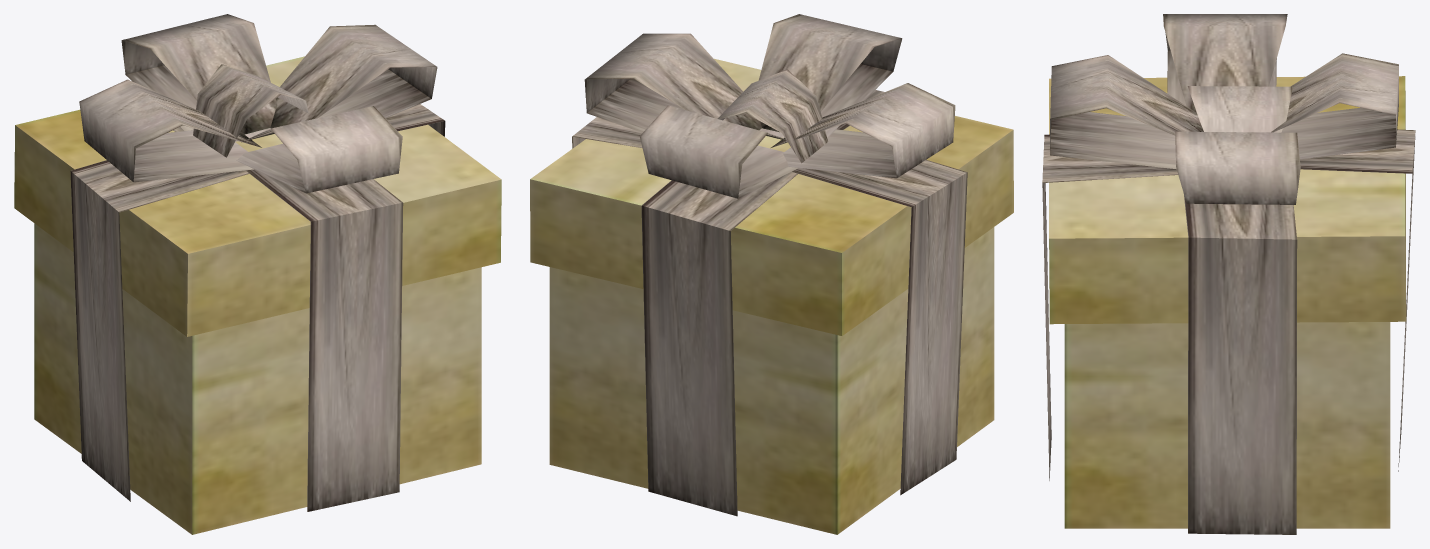
Rendered from pir_m_prp_hol_decoGift01_winter08.fbx.
3 renders of one model, left to right at view 1: azimuth 30°, elevation 25°; view 2: azimuth 150°, elevation 25°; view 3: azimuth 270°, elevation 25°, orthographic. The views are drawn at different scales.
Parts seen in each view (by area): view 1: box_bottom, box_top, ribbon56, ribbon54, ribbon52, ribbon23, ribbon; view 2: box_bottom, box_top, ribbon23, ribbon54, ribbon52, ribbon56, ribbon; view 3: box_bottom, ribbon52, box_top, ribbon56, ribbon23, ribbon54, ribbon.
Boxes of the visible parts, x1,y1,x2,y2 form: box_bottom: (34, 223, 481, 534); box_top: (14, 56, 501, 336); ribbon56: (236, 106, 403, 511); ribbon54: (70, 79, 261, 501); ribbon52: (270, 24, 445, 136); ribbon23: (121, 14, 277, 141); ribbon: (193, 64, 308, 157); box_bottom: (549, 227, 994, 534); box_top: (530, 58, 1013, 335); ribbon23: (639, 105, 797, 516); ribbon54: (771, 83, 967, 495); ribbon52: (572, 33, 761, 148); ribbon56: (758, 14, 902, 137); ribbon: (717, 69, 827, 163); box_bottom: (1064, 322, 1390, 528); ribbon52: (1175, 131, 1300, 534); box_top: (1049, 76, 1406, 324); ribbon56: (1042, 55, 1203, 480); ribbon23: (1271, 53, 1415, 471); ribbon54: (1163, 14, 1287, 112); ribbon: (1187, 86, 1292, 132).
Bounding box in the file's own units: 179 × 187 × 167.
1 material, 1 textured.
